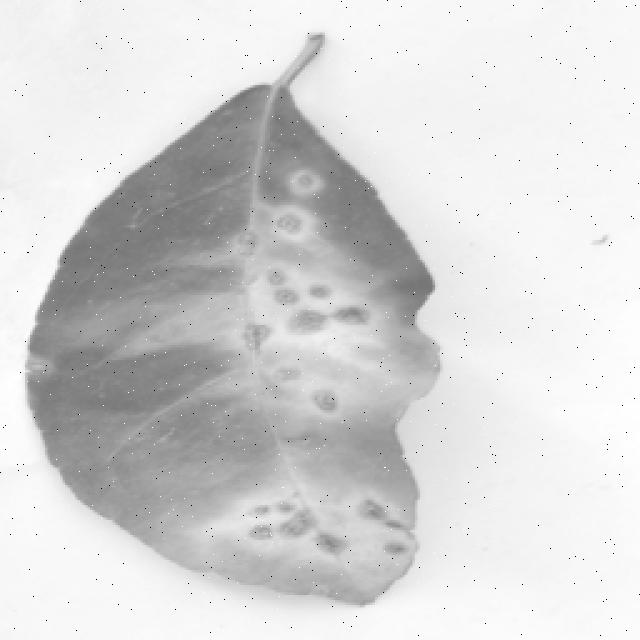canker: (132, 120, 440, 583)
